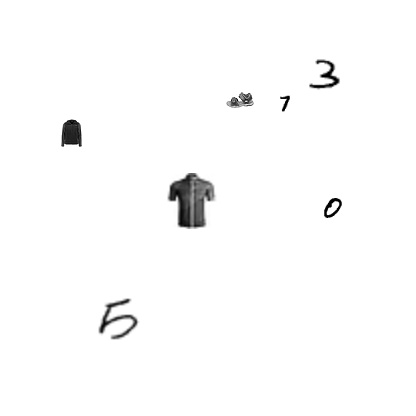0: (318, 193, 346, 221)
3: (305, 55, 347, 97)
5: (89, 291, 145, 347)
7: (274, 91, 296, 113)
Coat: (57, 119, 85, 147)
Sandal: (226, 86, 254, 114)
T-shirt/top: (164, 173, 220, 229)
